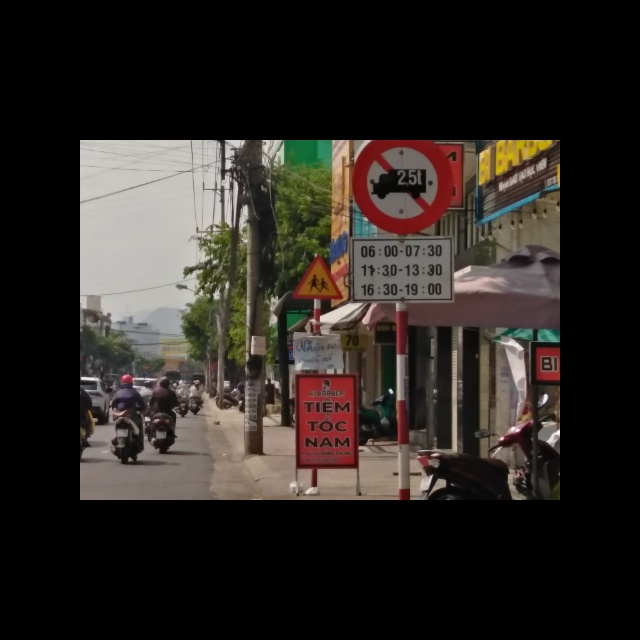Cấm xe tải: (352, 140, 453, 236)
Trẻ em ngang qua: (292, 250, 345, 299)
